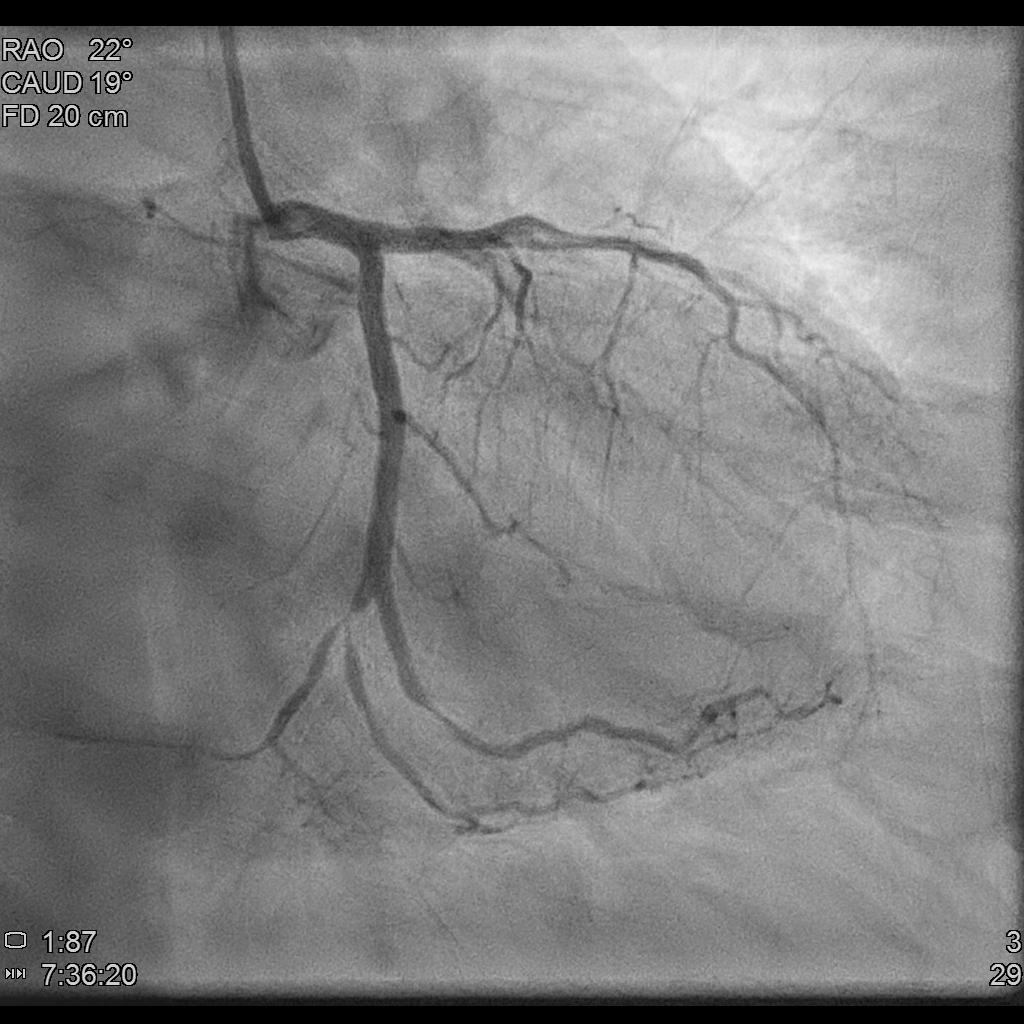block: (303, 576, 421, 687)
